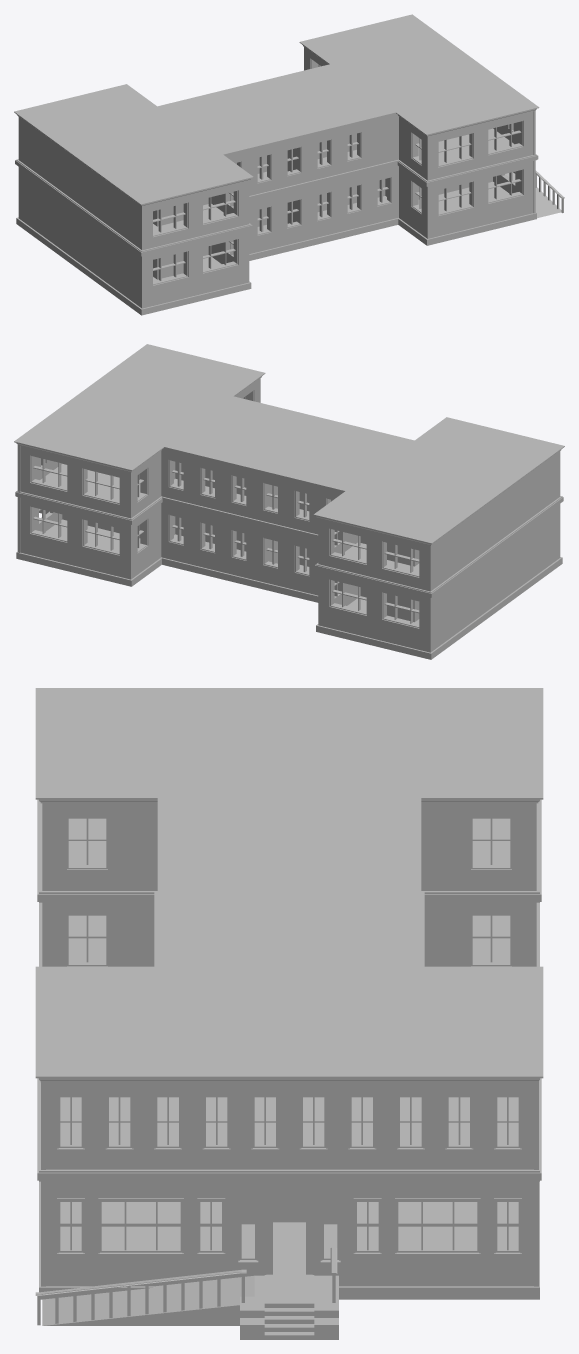
File: Apartment1.fbx
3 renders of one model, top to bottom at view 1: azimuth 30°, elevation 25°; view 2: azimuth 150°, elevation 25°; view 3: azimuth 270°, elevation 25°, orthographic. The views are drawn at different scales.
Visible parts, largest first — view 1: Apartment Building 1 v7; view 2: Apartment Building 1 v7; view 3: Apartment Building 1 v7.
Part boxes in pixels (box(x1,y1,x2,y2)): Apartment Building 1 v7: box(14, 14, 564, 315); Apartment Building 1 v7: box(14, 344, 564, 659); Apartment Building 1 v7: box(35, 688, 543, 1339).
Bounding box in the file's own units: 6838 × 1671 × 3430.
